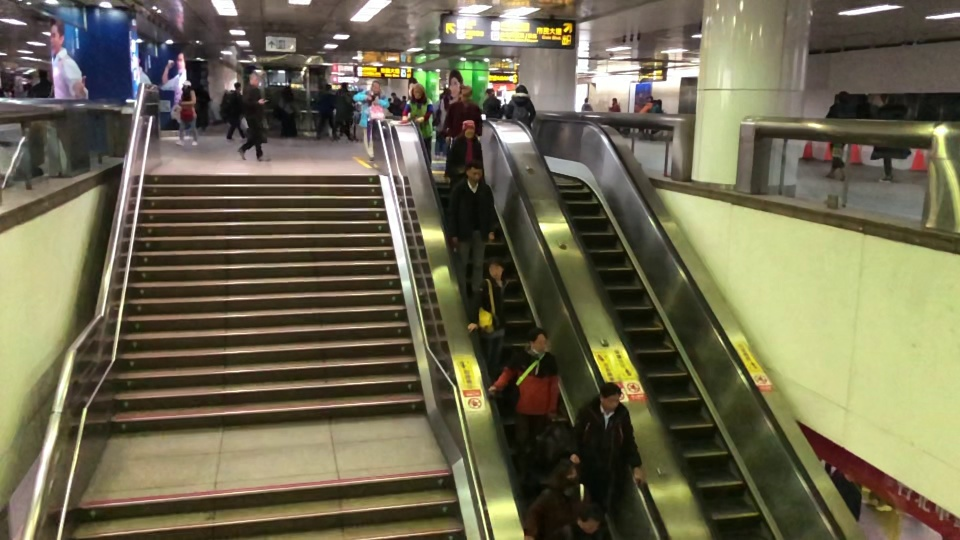person_head: (598, 383, 621, 410), (580, 505, 602, 531), (557, 459, 581, 480), (529, 326, 547, 351), (487, 255, 505, 277), (467, 161, 484, 181), (412, 82, 425, 99), (462, 122, 475, 139), (835, 90, 852, 103), (459, 85, 472, 97), (248, 73, 259, 85), (370, 80, 380, 92), (514, 85, 528, 93), (38, 69, 48, 80), (882, 94, 894, 101), (485, 88, 495, 96), (235, 82, 242, 92), (182, 81, 191, 88), (340, 82, 347, 88), (390, 91, 397, 97), (656, 99, 663, 104), (326, 84, 332, 89), (612, 97, 617, 103), (585, 97, 588, 103), (648, 96, 652, 100)
person_vbox: (487, 326, 560, 485), (569, 383, 644, 513), (447, 160, 496, 299), (523, 459, 590, 540), (467, 255, 509, 372), (869, 93, 911, 182), (236, 72, 273, 162), (353, 80, 389, 160), (401, 82, 435, 163), (824, 89, 852, 185), (444, 121, 485, 181), (442, 85, 483, 144), (174, 80, 201, 146), (314, 83, 339, 141), (334, 82, 357, 142), (504, 84, 536, 124), (224, 82, 244, 140), (26, 69, 52, 97), (482, 87, 500, 117), (638, 95, 652, 112), (607, 96, 619, 111), (652, 98, 664, 112), (390, 92, 401, 106), (581, 97, 591, 111)
